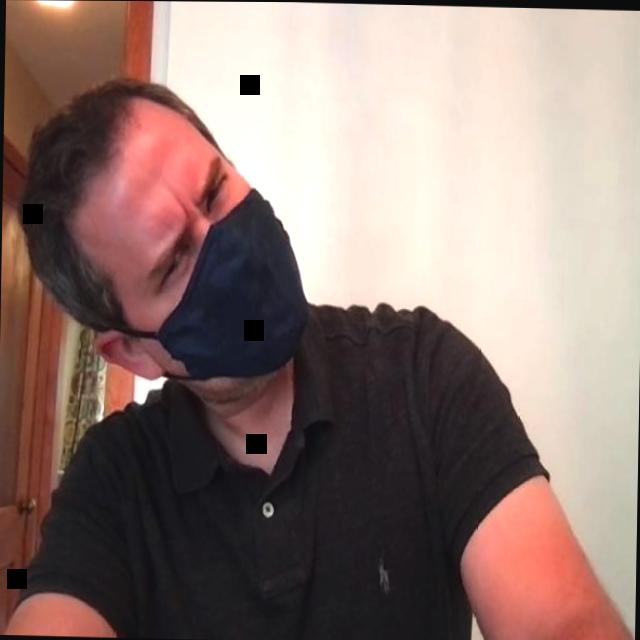Mask: (16, 76, 311, 392)
